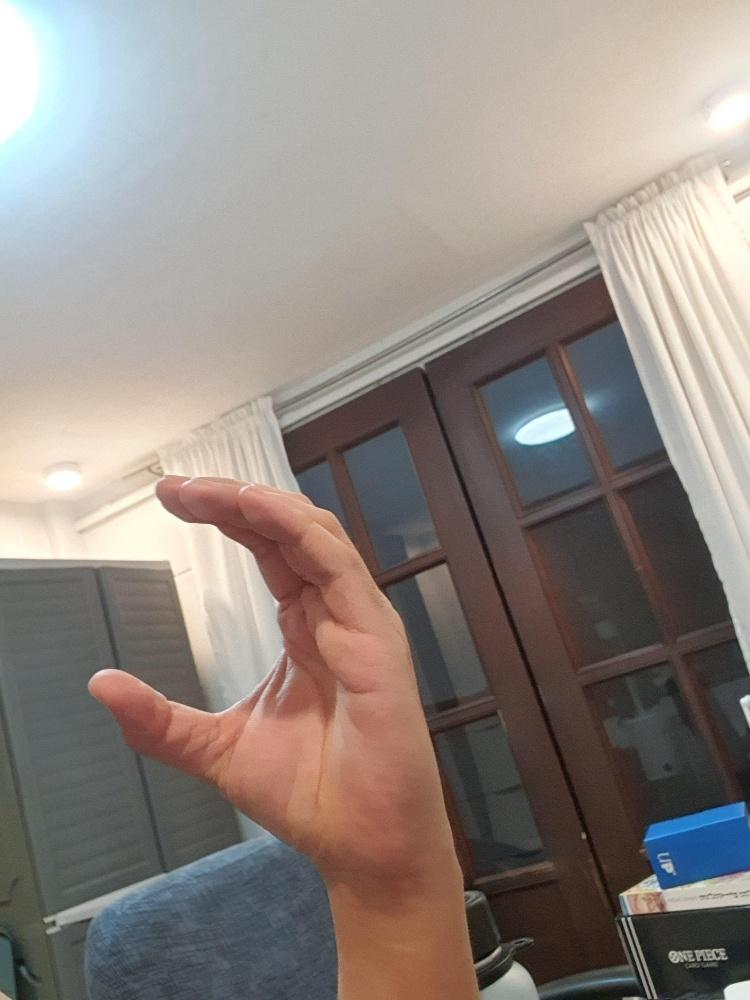c: (84, 468, 449, 882)
